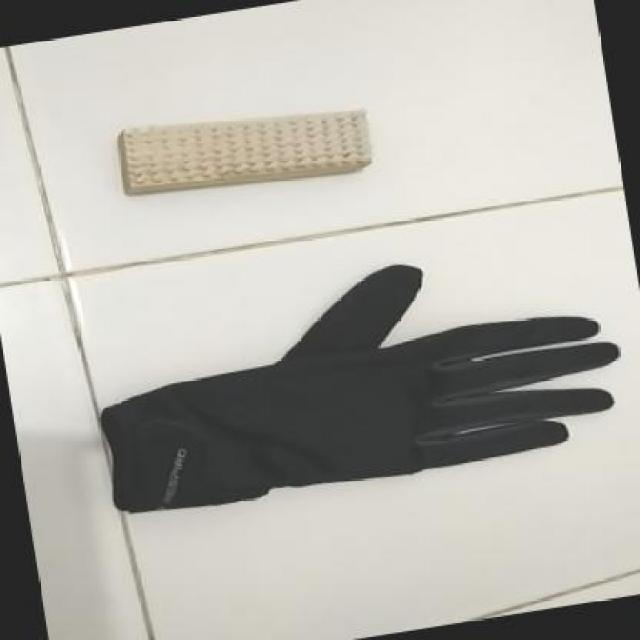gloved_hand: (74, 225, 637, 528)
